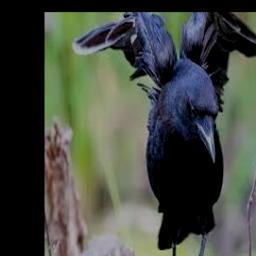Crow: (71, 12, 256, 256)
